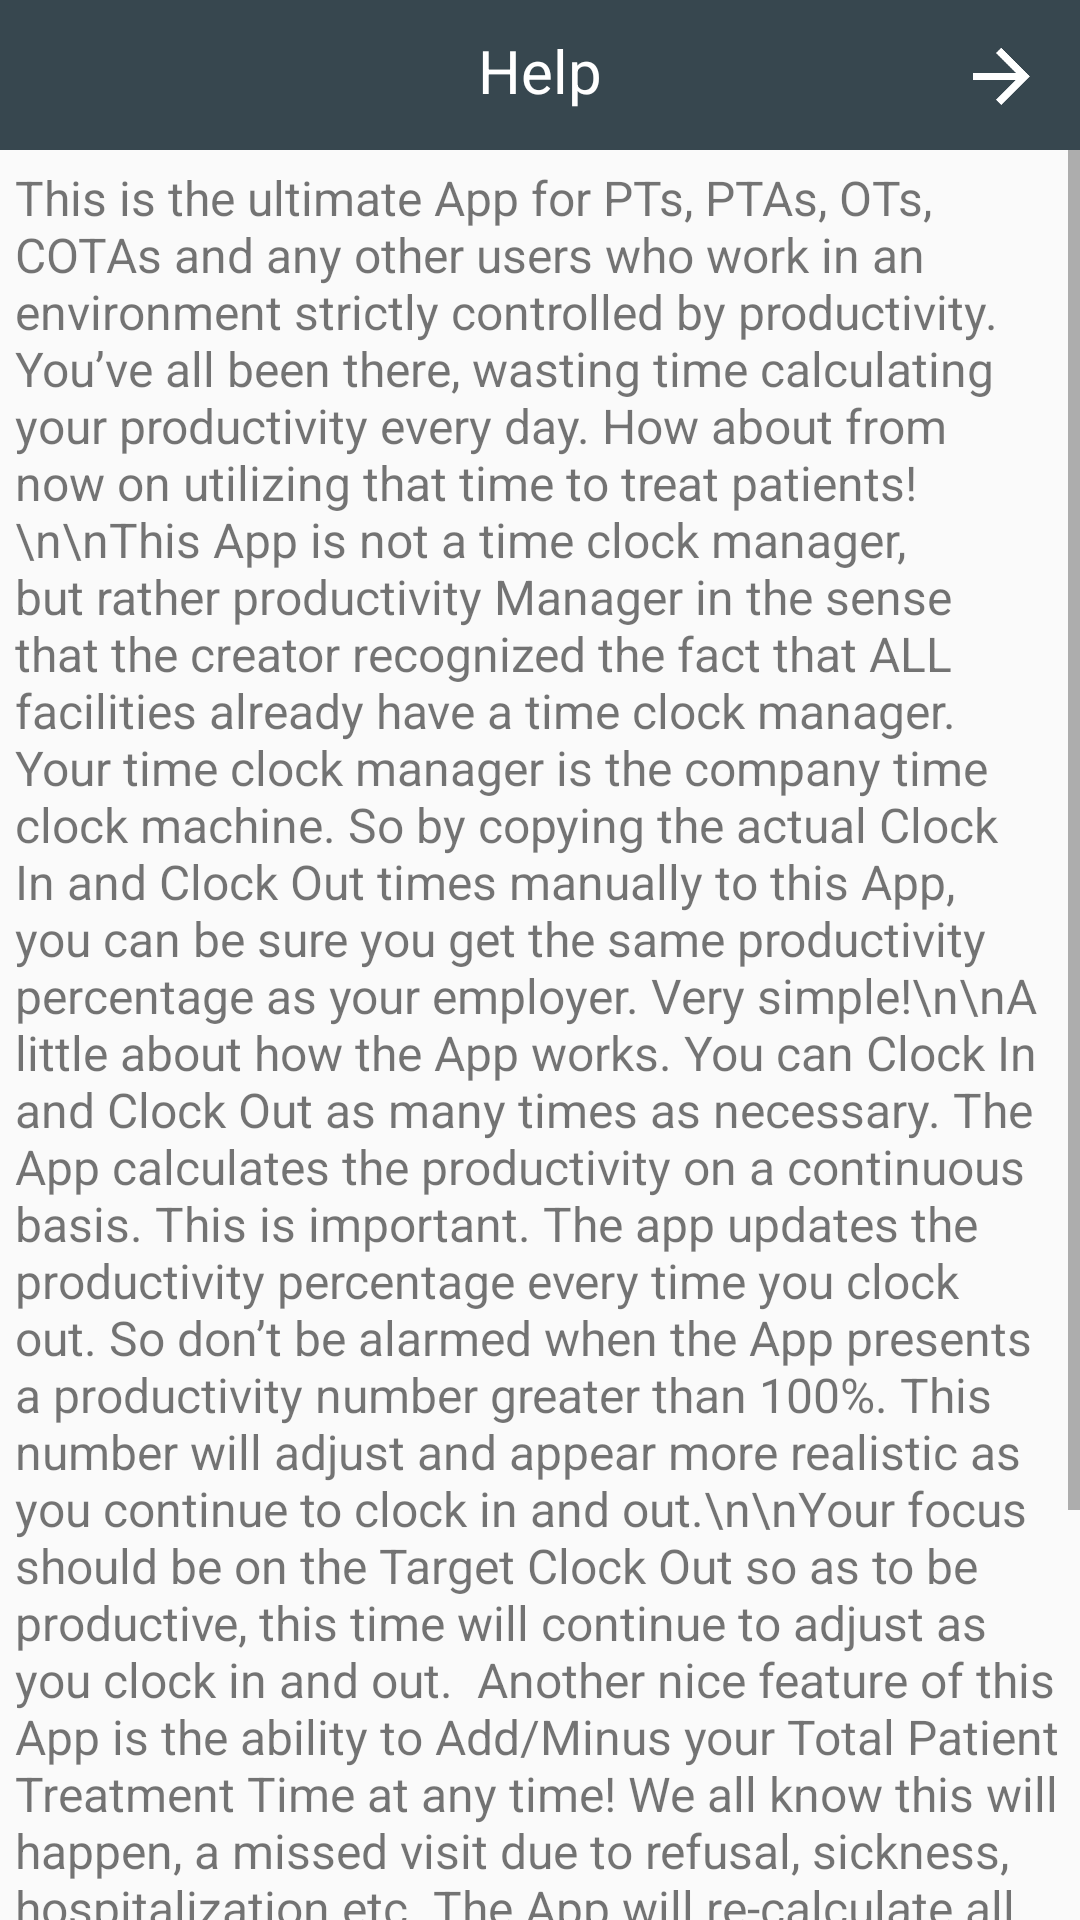

Named icons in this screenshot (1080*1920) and their centers, (x=x, y=y):
right arrow: (x=1001, y=76)
